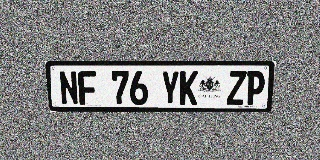6: (129, 71, 148, 105)
7: (110, 71, 130, 105)
F: (77, 71, 98, 105)
K: (179, 71, 198, 105)
N: (58, 71, 79, 105)
P: (245, 71, 266, 105)
Y: (161, 71, 179, 105)
Z: (226, 71, 247, 105)
